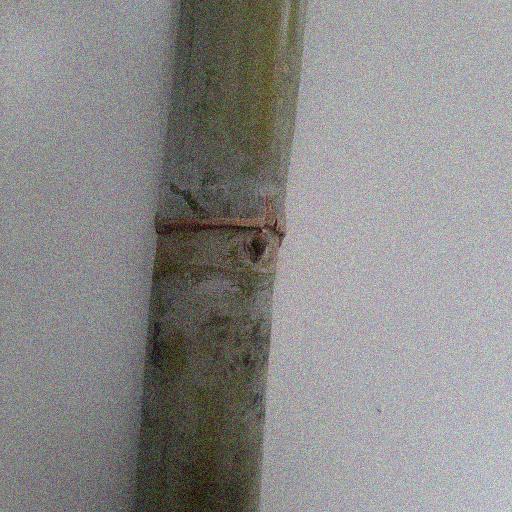Bud: (246, 229, 270, 263)
